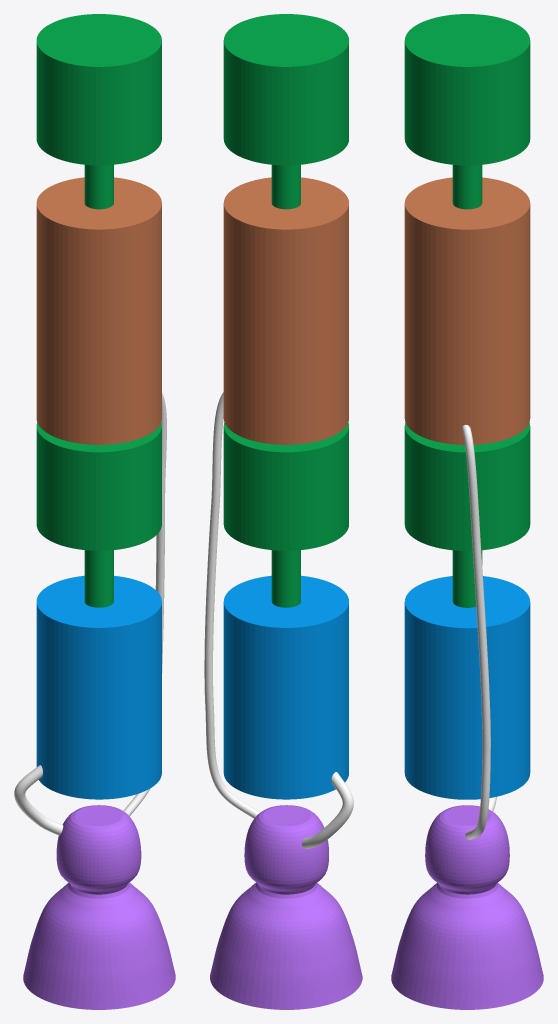
The model's file is CombustionChamber.glb.
3 renders of one model, left to right at view 1: azimuth 30°, elevation 25°; view 2: azimuth 150°, elevation 25°; view 3: azimuth 270°, elevation 25°, orthographic.
Visible parts, largest first — view 1: Fuel, Oxidizer, CombustionChamber, FuelPressure, OxidizerPressure, FuelChannel, OxidizerChannel; view 2: Fuel, Oxidizer, CombustionChamber, FuelPressure, OxidizerPressure, FuelChannel, OxidizerChannel; view 3: Fuel, Oxidizer, CombustionChamber, FuelPressure, OxidizerPressure, FuelChannel.
Part boxes in pixels (x1,y1,x2,y2): Fuel: (36,177,161,444); Oxidizer: (36,575,161,799); CombustionChamber: (23,805,175,1009); FuelPressure: (36,14,161,209); OxidizerPressure: (36,422,161,607); FuelChannel: (123,393,166,816); OxidizerChannel: (14,765,63,835); Fuel: (223,177,348,444); Oxidizer: (223,575,348,799); CombustionChamber: (210,805,362,1009); FuelPressure: (223,14,348,209); OxidizerPressure: (223,422,348,607); FuelChannel: (204,392,259,818); OxidizerChannel: (301,772,353,848); Fuel: (404,177,530,444); Oxidizer: (404,576,530,799); CombustionChamber: (391,805,543,1009); FuelPressure: (404,14,530,209); OxidizerPressure: (404,422,530,607); FuelChannel: (462,425,490,839).
Bounding box in the file's own units: 5.82 × 35.27 × 5.2.
